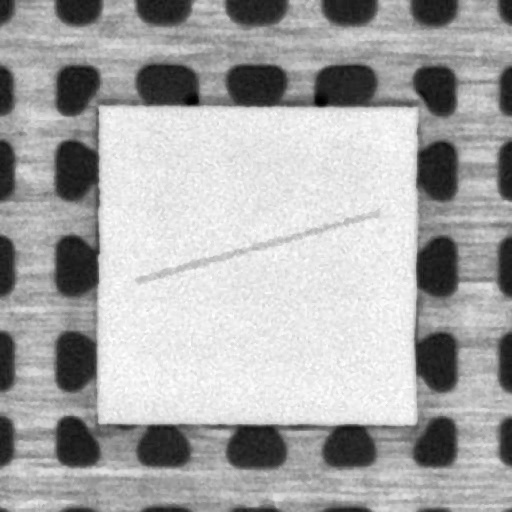DIE_CRACK: (135, 213, 377, 280)
